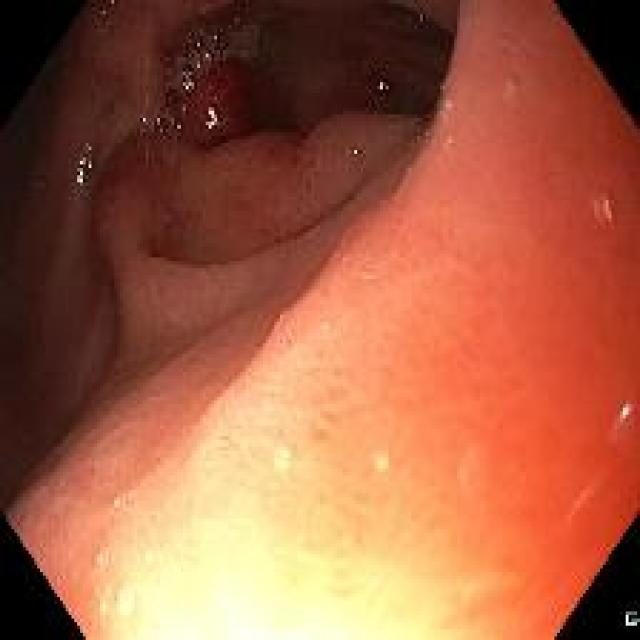bubbles: (155, 14, 311, 149), (93, 80, 130, 129), (90, 4, 116, 46), (89, 541, 113, 580), (128, 110, 158, 141), (399, 11, 430, 29)
color misalignment: (565, 475, 604, 524), (605, 397, 637, 452)
contrast: (1, 7, 92, 441), (164, 9, 438, 130)
saturation: (91, 438, 555, 639)
specularity: (70, 153, 92, 191), (345, 140, 364, 164), (206, 106, 217, 129), (182, 82, 196, 90), (418, 12, 426, 24), (377, 81, 384, 90), (195, 40, 201, 49), (179, 69, 186, 76)
